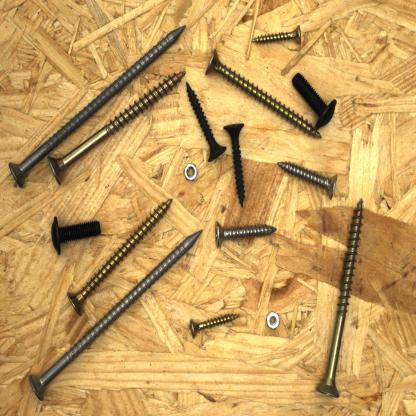screw: (26, 226, 206, 405), (7, 20, 190, 191), (45, 67, 190, 188), (65, 196, 175, 318), (203, 46, 325, 142), (314, 195, 365, 402), (184, 78, 229, 165), (288, 70, 340, 134), (276, 157, 340, 202), (220, 119, 249, 211), (49, 214, 103, 258), (213, 218, 280, 251), (187, 312, 243, 342), (249, 22, 305, 49)
